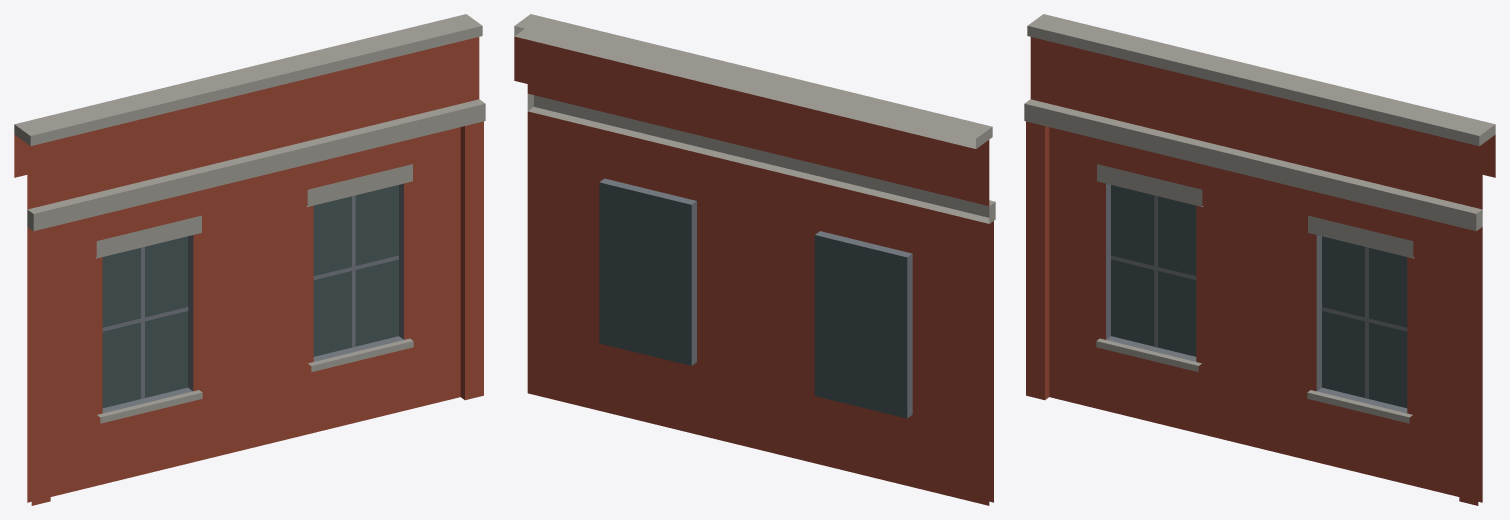
Rendered from top-w1.fbx.
The picture shows the model from 3 angles, left to right: view 1: azimuth 30°, elevation 25°; view 2: azimuth 150°, elevation 25°; view 3: azimuth 330°, elevation 25°; orthographic projection. The views are drawn at different scales.
Parts seen in each view (by area): view 1: a2013/700/top-w1; view 2: a2013/700/top-w1; view 3: a2013/700/top-w1.
Boxes of the visible parts, x1,y1,x2,y2 form: a2013/700/top-w1: [14, 14, 485, 505]; a2013/700/top-w1: [514, 14, 995, 505]; a2013/700/top-w1: [1024, 14, 1495, 505].
Size of the model in its own units: 6 by 4.68 by 0.44.
